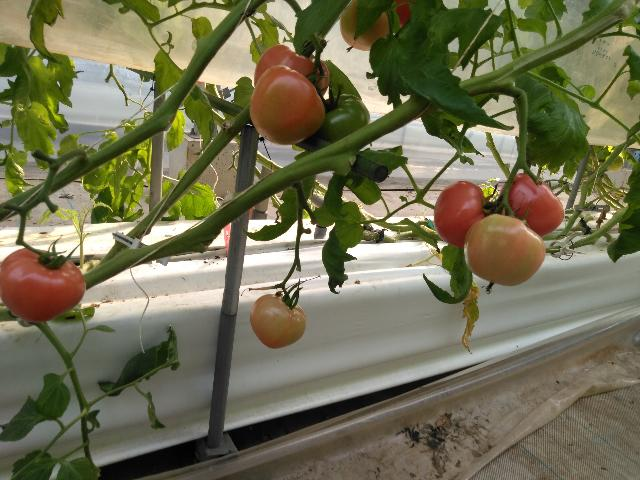b_fully_ripened: (0, 247, 86, 323), (497, 173, 565, 238), (433, 181, 495, 249)
b_green: (313, 93, 371, 144)
b_half_ripened: (249, 65, 326, 146), (464, 214, 546, 287), (254, 44, 330, 99), (249, 293, 306, 349), (340, 0, 389, 51)
